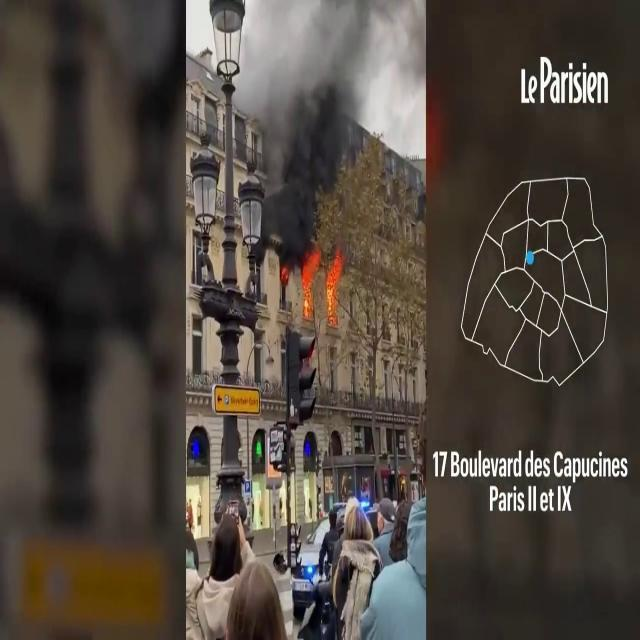Fire: (324, 246, 344, 323), (300, 246, 320, 320)
Smoke: (232, 0, 378, 243)
